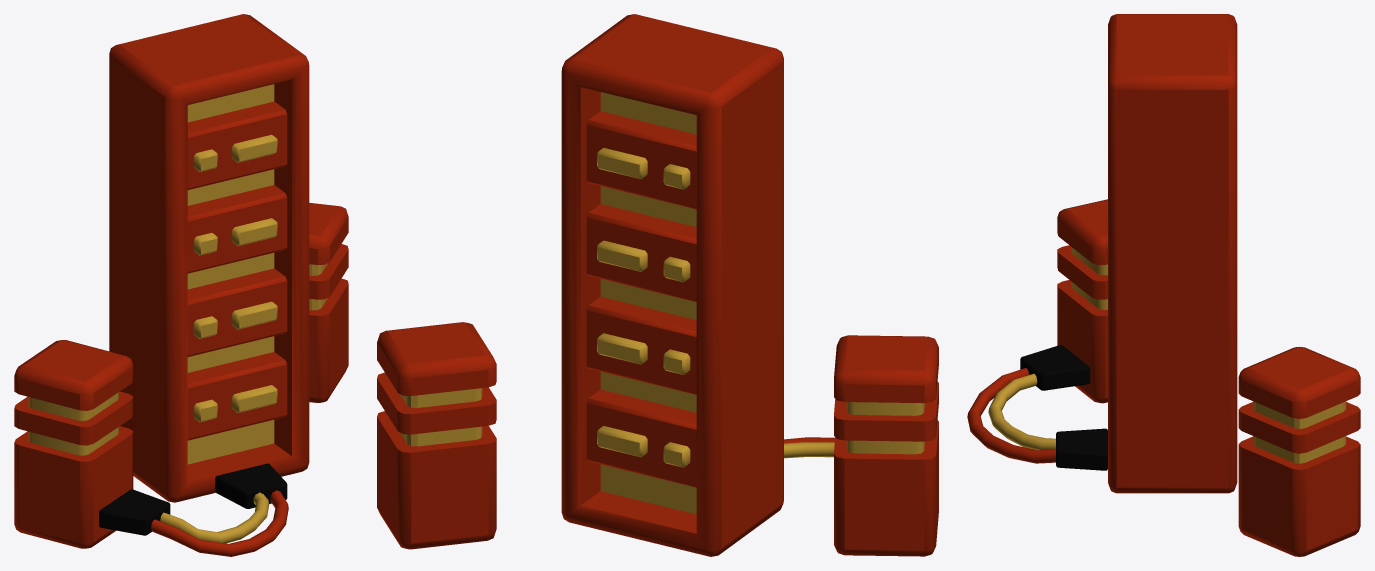
Rendered from Command Center Inside Solid.fbx.
The picture shows the model from 3 angles, left to right: view 1: azimuth 30°, elevation 25°; view 2: azimuth 150°, elevation 25°; view 3: azimuth 270°, elevation 25°; orthographic projection. The views are drawn at different scales.
Visible parts, largest first — view 1: Command Center Inside; view 2: Command Center Inside; view 3: Command Center Inside.
Boxes of the visible parts, x1,y1,x2,y2 form: Command Center Inside: [14, 14, 348, 556]; Command Center Inside: [377, 14, 938, 556]; Command Center Inside: [967, 14, 1360, 556].
Size of the model in its own units: 522 by 500 by 426.
